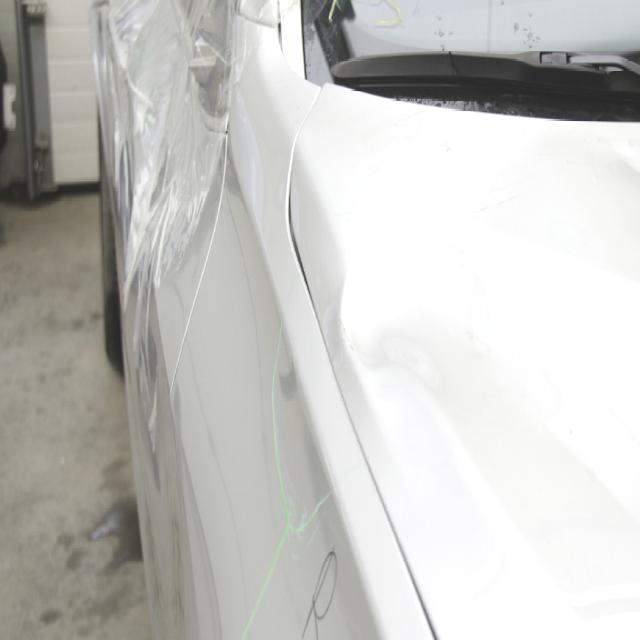Cabossage: (332, 196, 482, 444)
